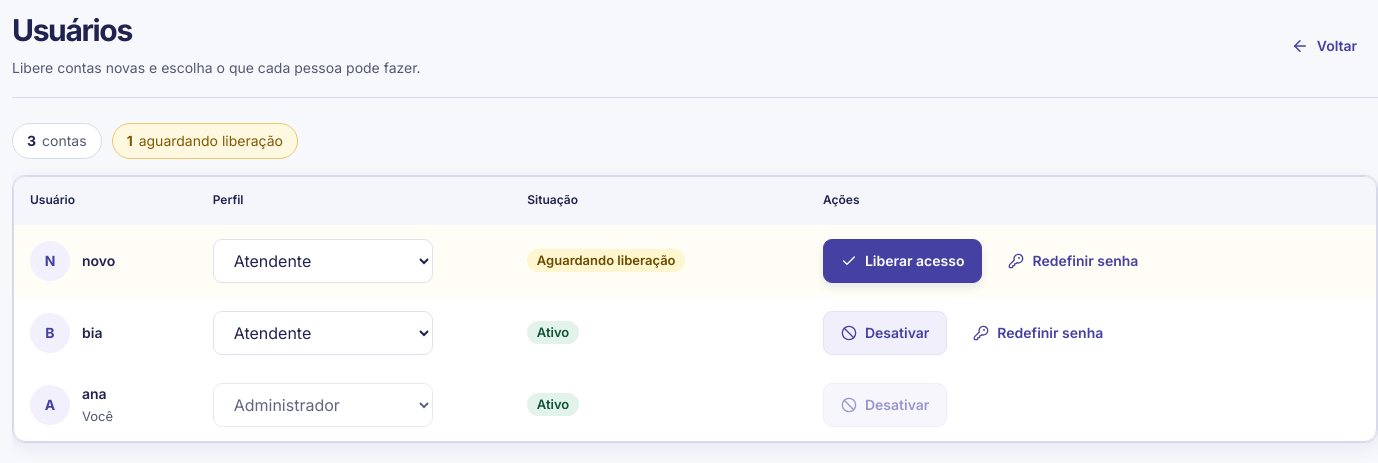
Test: Usuários › troca o perfil mantendo o estado de acesso e avisa
Select "Administrador" in the dropdown named "Perfil de bia". click: point(323, 333)
box: [213,311,433,355]
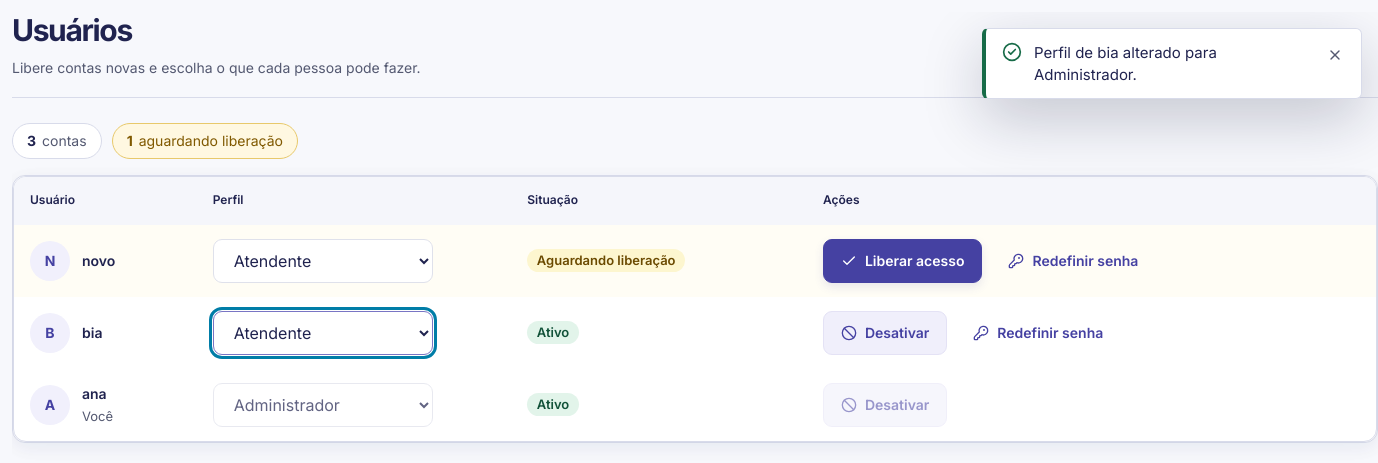
Now the text "Perfil de bia alterado para Administrador." is shown, box [1034,43,1217,84]
